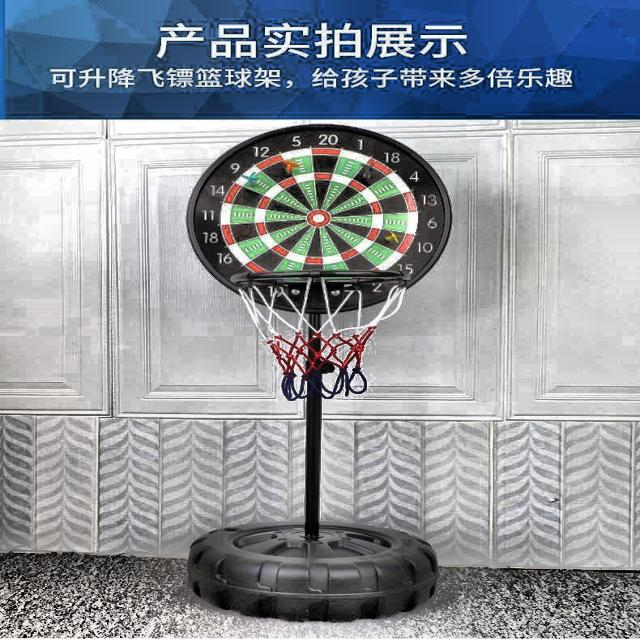rim: (233, 269, 409, 402)
